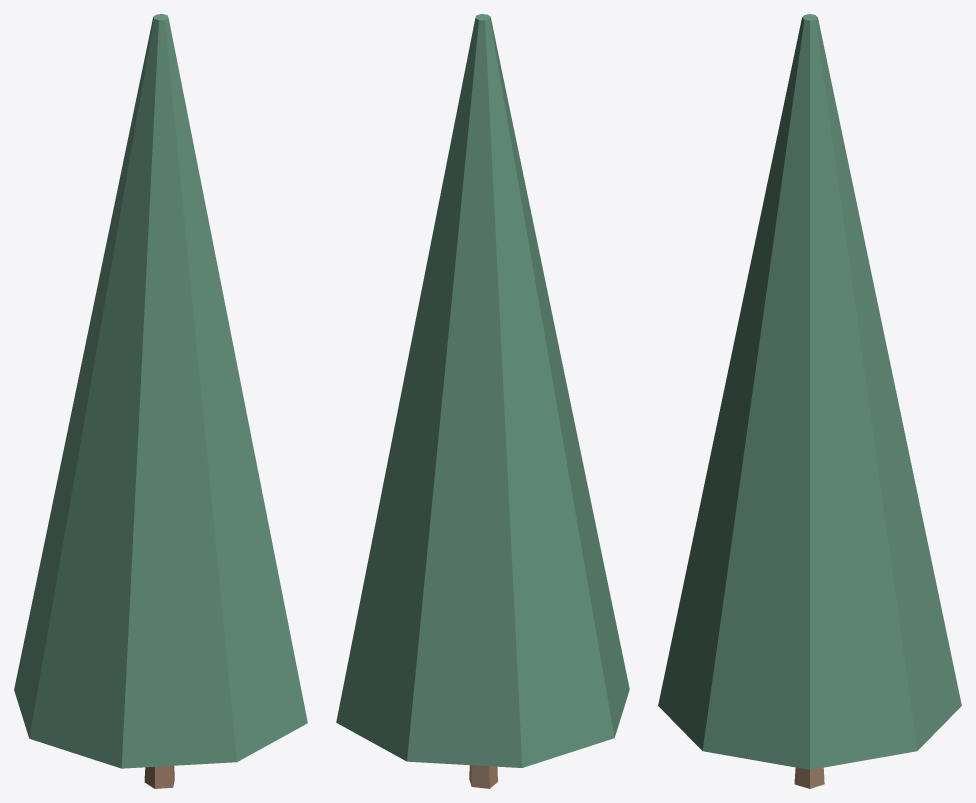
Rendered from 05_Cypress.glb.
3 renders of one model, left to right at view 1: azimuth 30°, elevation 25°; view 2: azimuth 150°, elevation 25°; view 3: azimuth 270°, elevation 25°, orthographic.
Parts seen in each view (by area): view 1: Cypress_Foliage, Cypress_Trunk; view 2: Cypress_Foliage, Cypress_Trunk; view 3: Cypress_Foliage, Cypress_Trunk.
Boxes of the visible parts, x1=… form: Cypress_Foliage: x1=14, y1=14, x2=307, y2=768; Cypress_Trunk: x1=144, y1=765, x2=174, y2=788; Cypress_Foliage: x1=336, y1=14, x2=629, y2=767; Cypress_Trunk: x1=469, y1=765, x2=497, y2=788; Cypress_Foliage: x1=658, y1=14, x2=961, y2=769; Cypress_Trunk: x1=794, y1=767, x2=824, y2=788.
Size of the model in its own units: 1.15 by 3.2 by 1.15.
